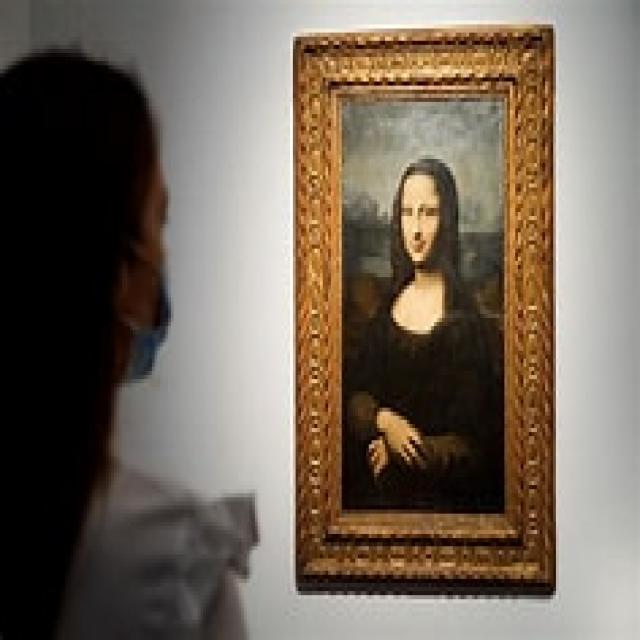monalisa: (336, 92, 509, 521)
